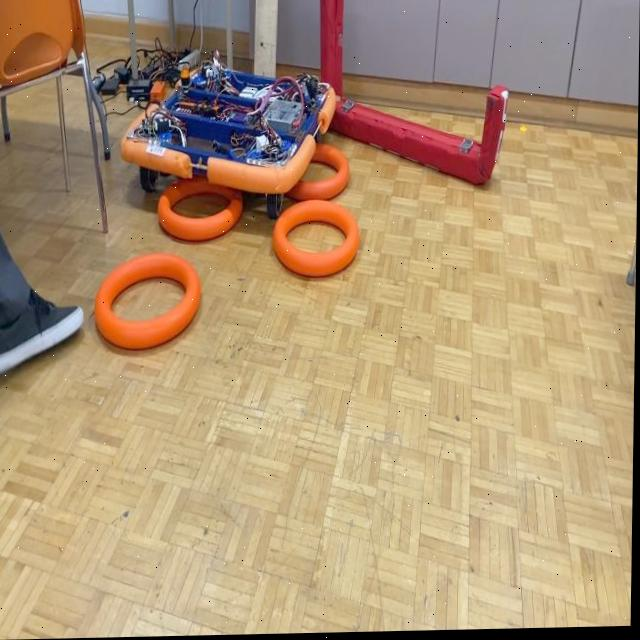note: (95, 251, 203, 353), (275, 199, 363, 278), (156, 179, 246, 243), (292, 145, 352, 201)
robot: (113, 49, 340, 203)
